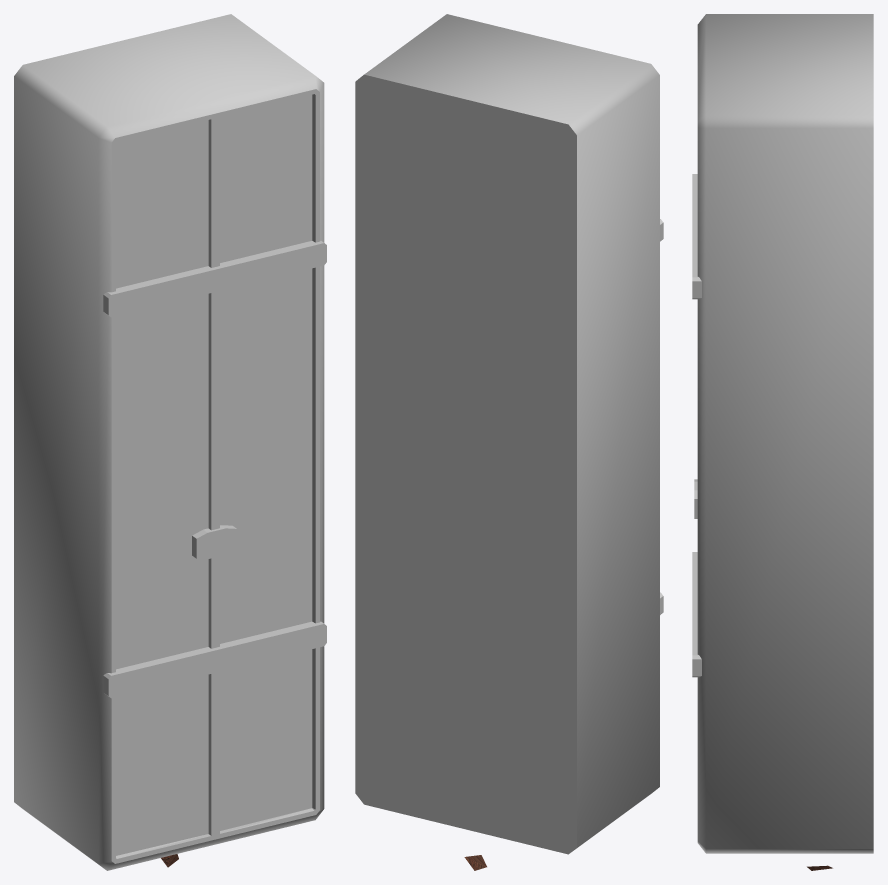
File: Prop_Locker_01.FBX
3 renders of one model, left to right at view 1: azimuth 30°, elevation 25°; view 2: azimuth 150°, elevation 25°; view 3: azimuth 270°, elevation 25°, orthographic.
Parts seen in each view (by area): view 1: Prop_Locker_01; view 2: Prop_Locker_01; view 3: Prop_Locker_01.
Part boxes in pixels (box(x1,y1,x2,y2)): Prop_Locker_01: box(14, 14, 326, 870); Prop_Locker_01: box(355, 14, 663, 870); Prop_Locker_01: box(692, 14, 873, 870).
Bounding box in the file's own units: 0.4458 × 1.52 × 0.312.
